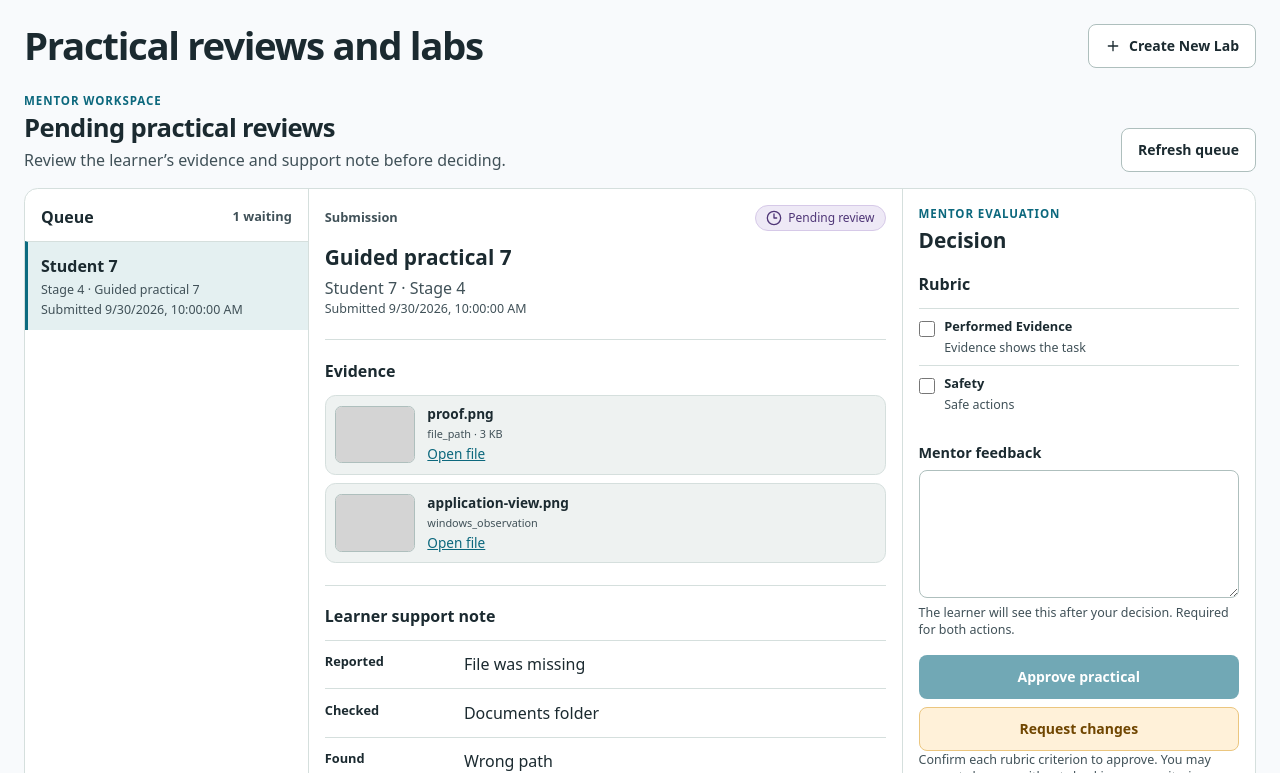
Scenario: mentor practical review workspace › requests changes with feedback using the existing reject API value
The width and height of the screenshot is (1280, 773).
Expected: the heading "Guided practical 7" is shown, [325,243,512,271]
Click the button "Request changes" at {"x": 1079, "y": 729}, box [918,707,1239,751]
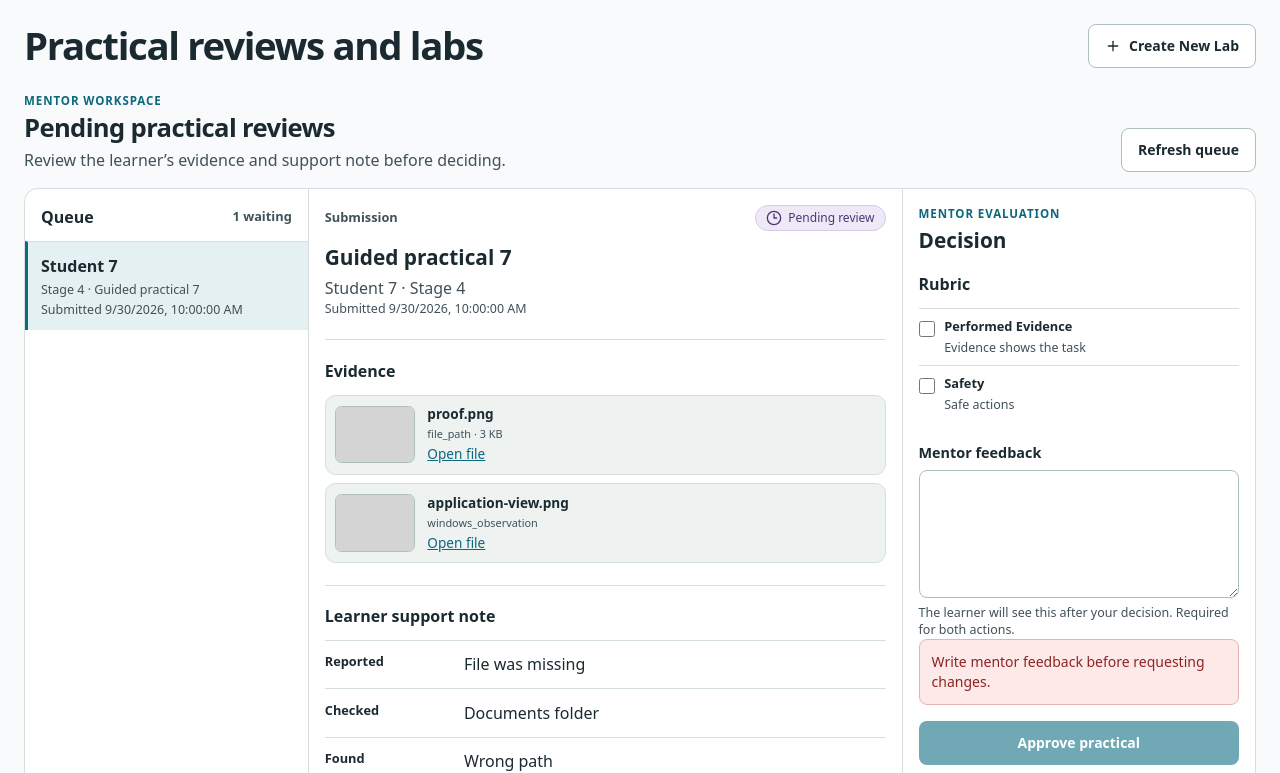
Expected: the message shows "Write mentor feedback", [932,652,1204,691]
Type "Show the application window" into the text box labelled "Mentor feedback" at {"x": 1079, "y": 534}, box [918,470,1239,598]
(page scrolled)
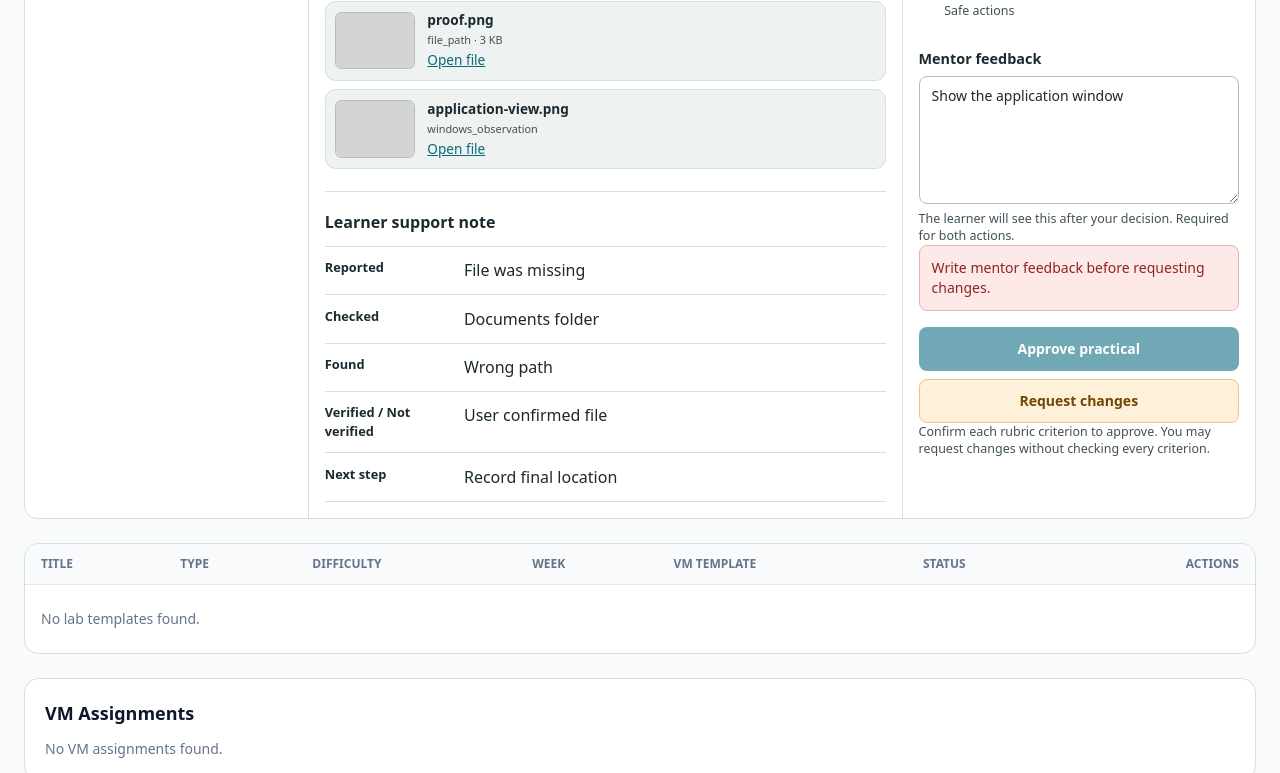
Click the button "Request changes" at {"x": 1079, "y": 401}, box [918,379,1239,423]
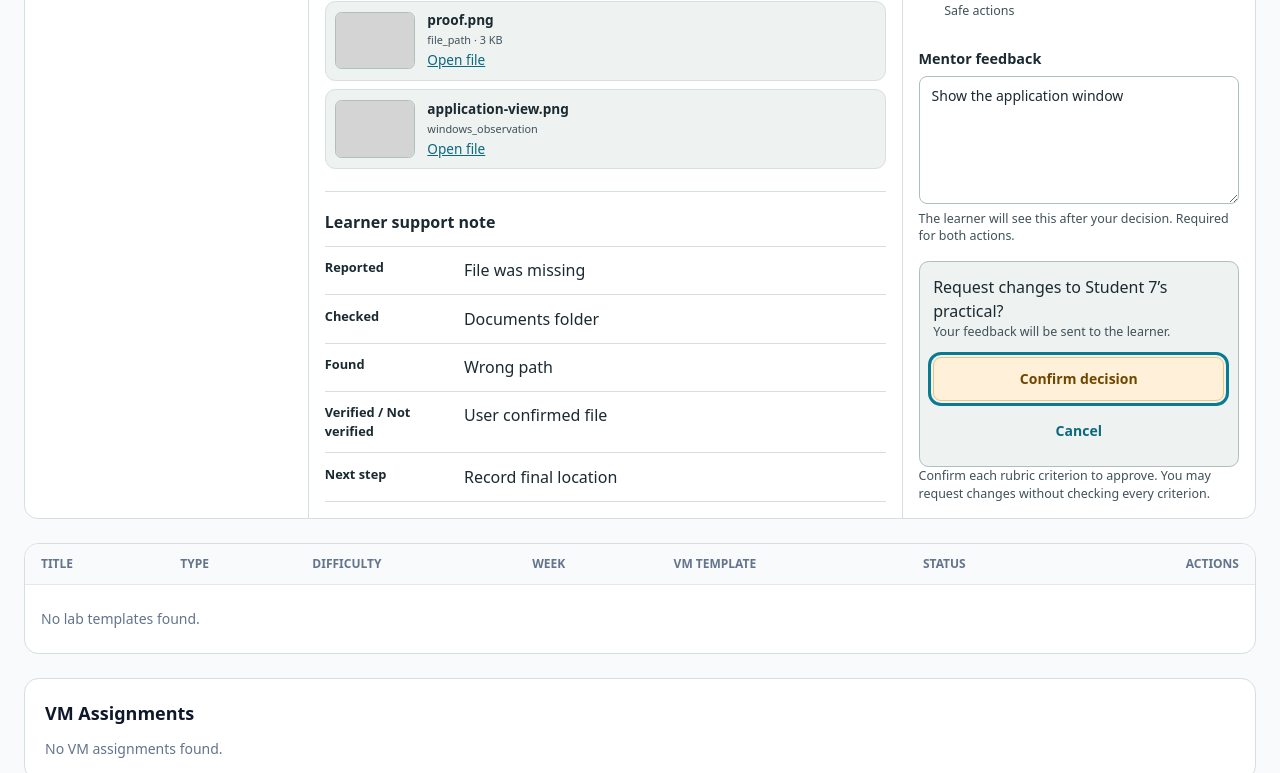
Click the button "Confirm decision" at {"x": 1079, "y": 379}, box [933,357,1224,401]
(page scrolled)
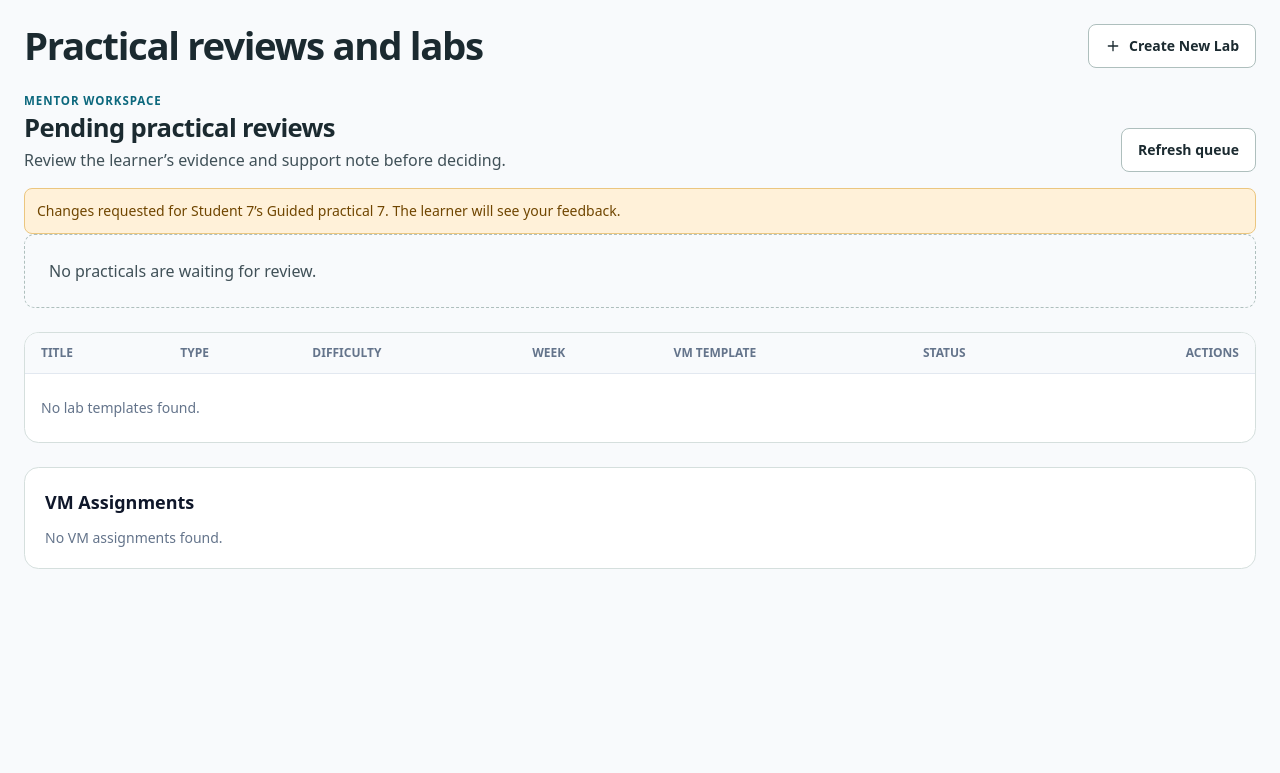
Expected: the text "No practicals are waiting for review." is shown, [24,234,1256,308]
Expected: the message shows "Changes requested", [37,201,620,220]
